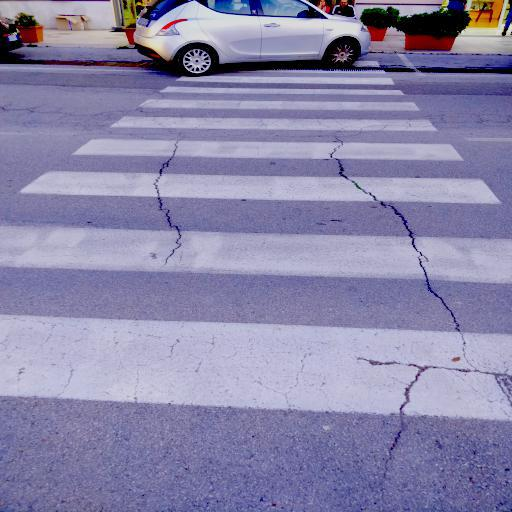crosswalk: (9, 136, 511, 212), (126, 84, 432, 116)
